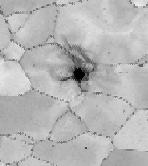good_void: (57, 35, 98, 98), (137, 62, 145, 69), (32, 63, 36, 68), (84, 145, 88, 150), (52, 144, 55, 147)
